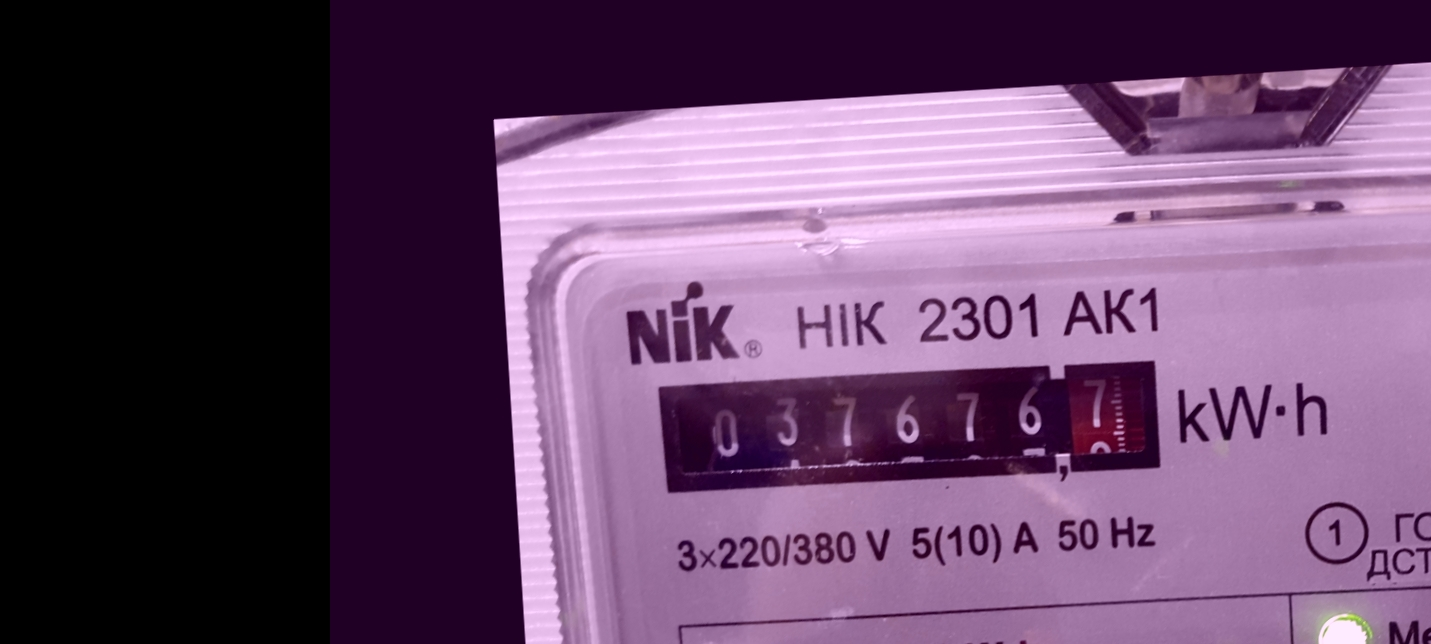0: (709, 403, 746, 460)
3: (772, 392, 803, 450)
6: (890, 389, 926, 445), (1014, 381, 1047, 438)
7: (952, 387, 987, 447), (829, 391, 864, 450), (1081, 374, 1112, 431)
screen: (643, 338, 1179, 517)
